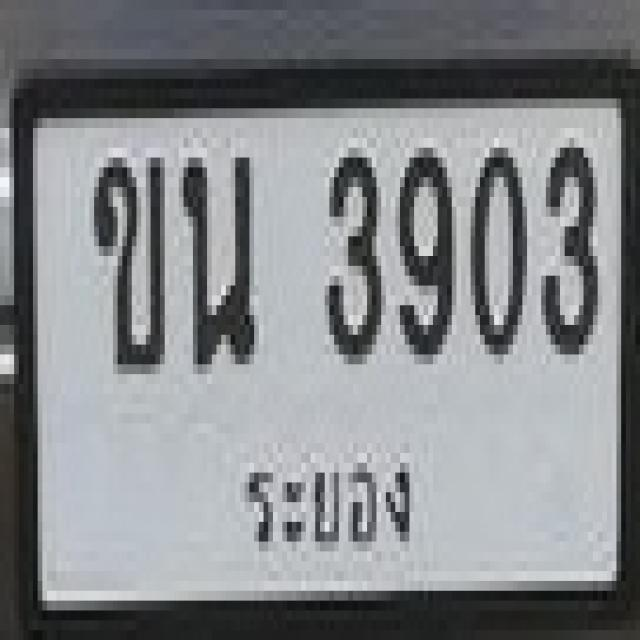license_plate: (9, 69, 640, 640)
